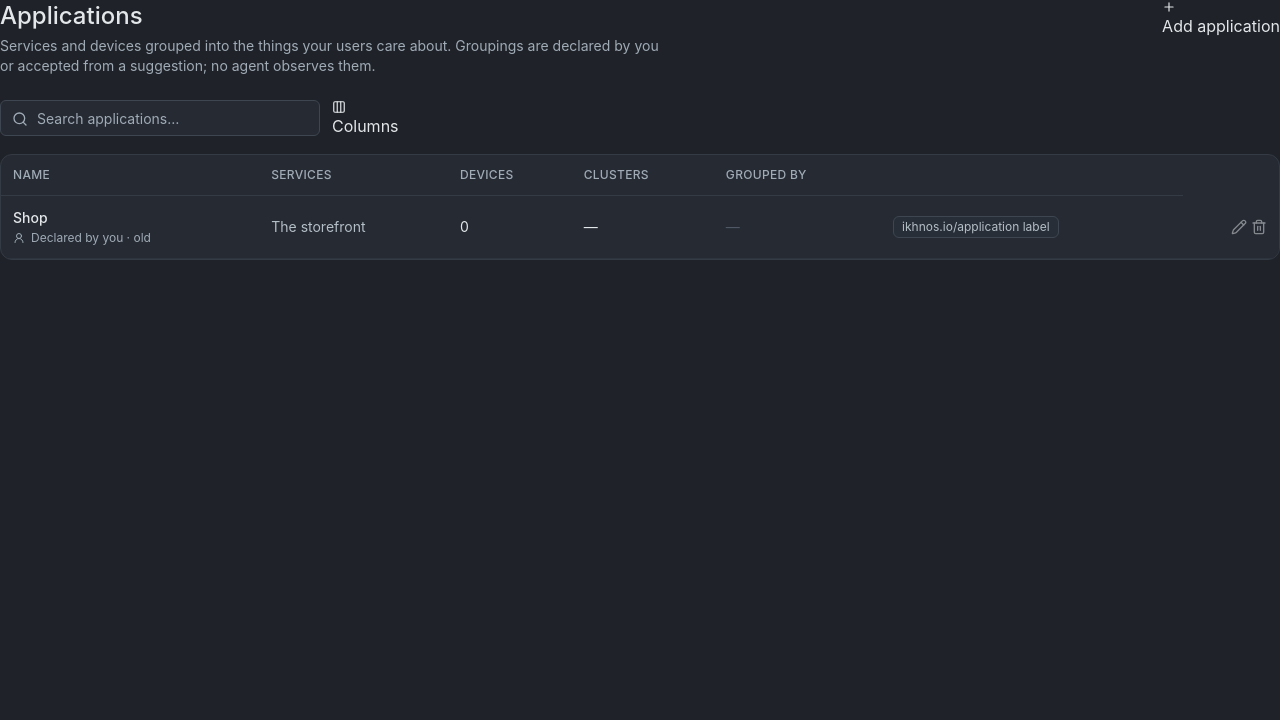
it: ApplicationForm panel › the page shows the description in its own column and opens the panel on a click
This screenshot has width=1280, height=720.
Check: the text "The storefront" is shown, box x1=259 y1=196 x2=448 y2=258
Step 1. Click the button "Shop" → (30, 218), box x1=13 y1=208 x2=48 y2=228
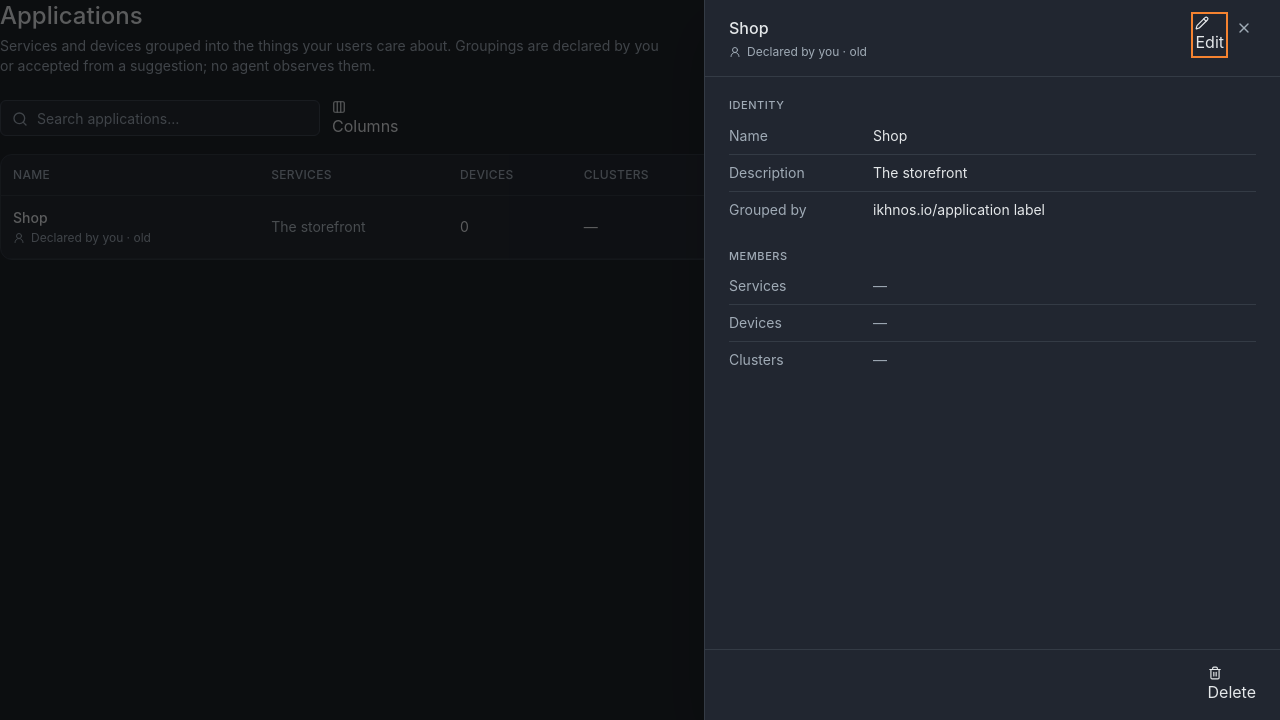
Check: the button "Edit" is shown, box x1=1196 y1=16 x2=1224 y2=54
